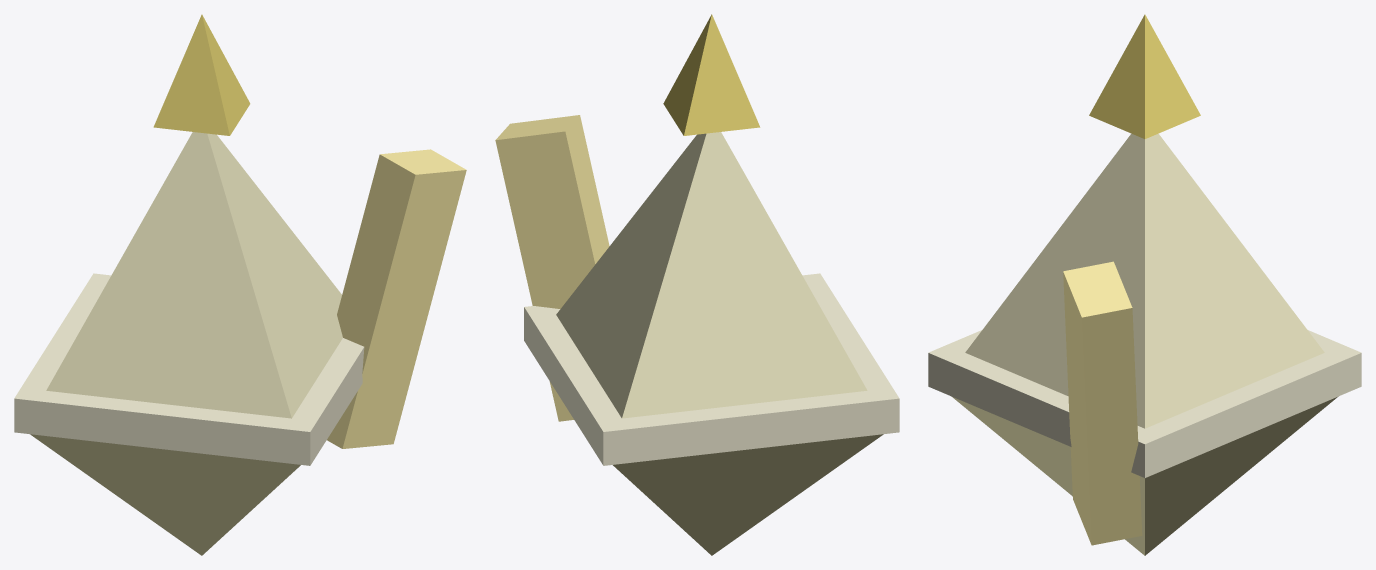
The model's file is volt_res_item.glb.
3 views of the same model, side by side, from view 1: azimuth 30°, elevation 25°; view 2: azimuth 150°, elevation 25°; view 3: azimuth 270°, elevation 25° (orthographic).
Visible parts, largest first — view 1: PlatDiamondTop, ChargeBolt, PlatBand, PlatDiamondBot, ChargeTip; view 2: PlatDiamondTop, PlatBand, ChargeBolt, PlatDiamondBot, ChargeTip; view 3: PlatDiamondTop, PlatBand, ChargeBolt, PlatDiamondBot, ChargeTip.
Part boxes in pixels (x1,y1,x2,y2): PlatDiamondTop: (46, 132, 342, 418); ChargeBolt: (327, 149, 466, 448); PlatBand: (14, 273, 364, 465); PlatDiamondBot: (30, 434, 300, 555); ChargeTip: (153, 14, 250, 135); PlatDiamondTop: (556, 132, 867, 418); PlatBand: (524, 273, 899, 465); ChargeBolt: (495, 115, 609, 421); PlatDiamondBot: (613, 434, 883, 555); ChargeTip: (663, 14, 760, 135); PlatDiamondTop: (965, 133, 1324, 428); PlatBand: (928, 330, 1361, 477); ChargeBolt: (1063, 261, 1142, 545); PlatDiamondBot: (951, 396, 1338, 555); ChargeTip: (1089, 14, 1200, 138).
Size of the model in its own units: 0.065 by 0.08 by 0.058.
